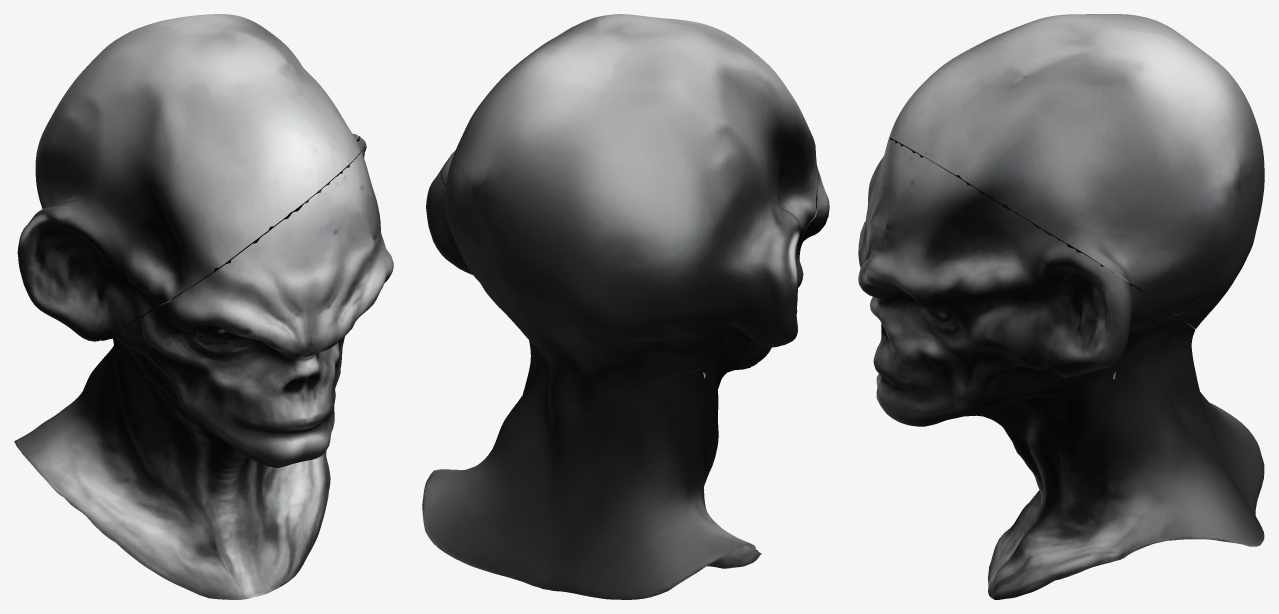
File: alien2full-compressed.glb
The picture shows the model from 3 angles, left to right: view 1: azimuth 30°, elevation 25°; view 2: azimuth 150°, elevation 25°; view 3: azimuth 270°, elevation 25°; orthographic projection. The views are drawn at different scales.
Visible parts, largest first — view 1: Alien_Overlord_0927095325.001_Material.005_0_cell.002; view 2: Alien_Overlord_0927095325.001_Material.005_0_cell.002; view 3: Alien_Overlord_0927095325.001_Material.005_0_cell.002.
Boxes of the visible parts, <box> form: Alien_Overlord_0927095325.001_Material.005_0_cell.002: <box>14,14,393,599</box>; Alien_Overlord_0927095325.001_Material.005_0_cell.002: <box>422,14,829,599</box>; Alien_Overlord_0927095325.001_Material.005_0_cell.002: <box>858,14,1264,599</box>.
Bounding box in the file's own units: 0.8509 × 1.24 × 0.8291.
Materials: 1 (1 with a texture image).
